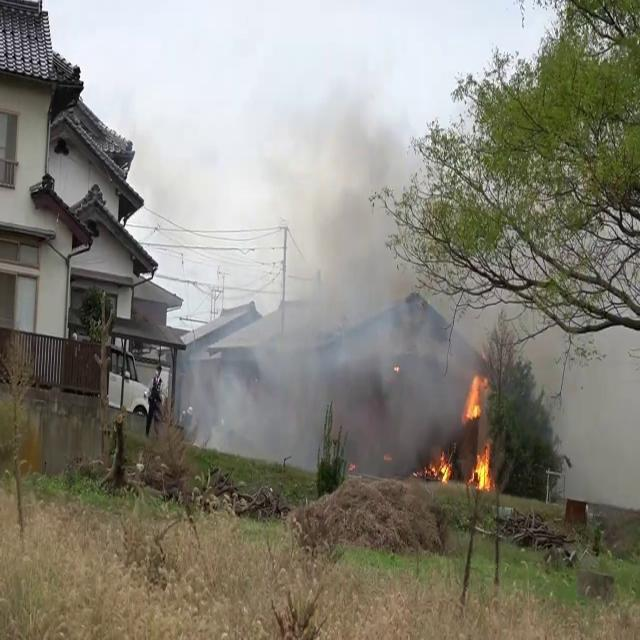Fire: (462, 366, 494, 496), (424, 445, 453, 487)
Smoke: (177, 77, 463, 471)
